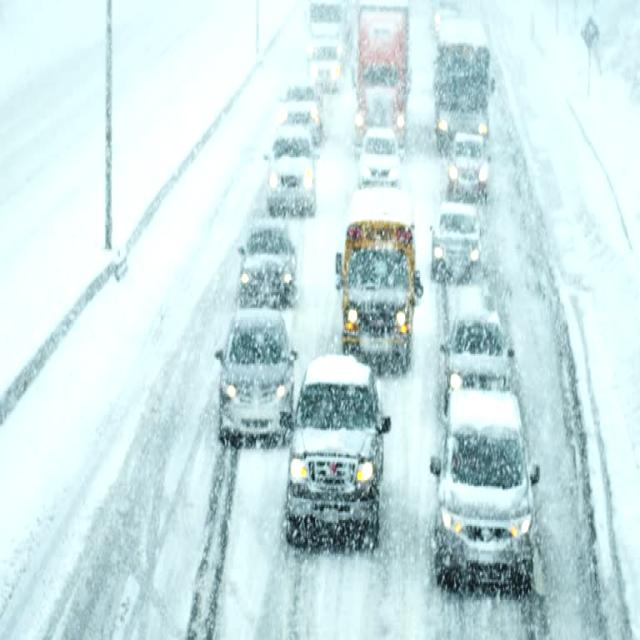Vehicle: (284, 354, 393, 556), (434, 386, 532, 587), (338, 198, 424, 346), (213, 319, 286, 463), (349, 8, 413, 124), (426, 32, 491, 132), (234, 224, 303, 304), (261, 126, 315, 210), (431, 204, 489, 274), (446, 136, 493, 198), (356, 134, 401, 185), (274, 79, 323, 124)
